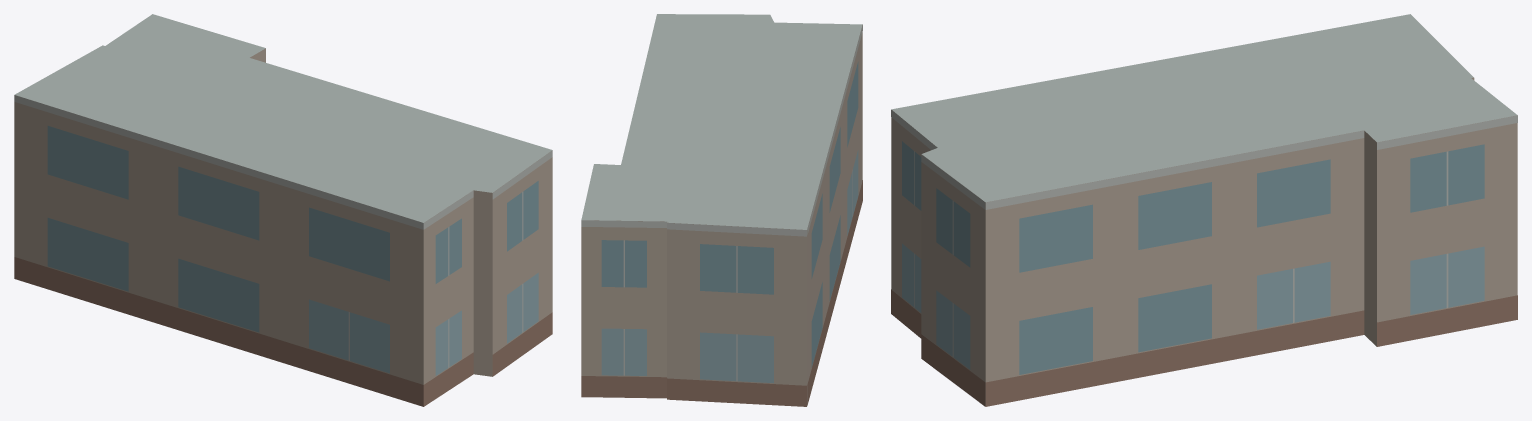
File: survey-upis-32741640.glb
3 views of the same model, side by side, from view 1: azimuth 30°, elevation 25°; view 2: azimuth 150°, elevation 25°; view 3: azimuth 270°, elevation 25° (orthographic). The views are drawn at different scales.
Visible parts, largest first — view 1: survey-upis-32741640.tmp; view 2: survey-upis-32741640.tmp; view 3: survey-upis-32741640.tmp.
Part boxes in pixels (x1,y1,x2,y2): survey-upis-32741640.tmp: (14,14,552,406); survey-upis-32741640.tmp: (581,14,862,406); survey-upis-32741640.tmp: (891,14,1517,406).
Bounding box in the file's own units: 12.85 × 6.5 × 18.06.
